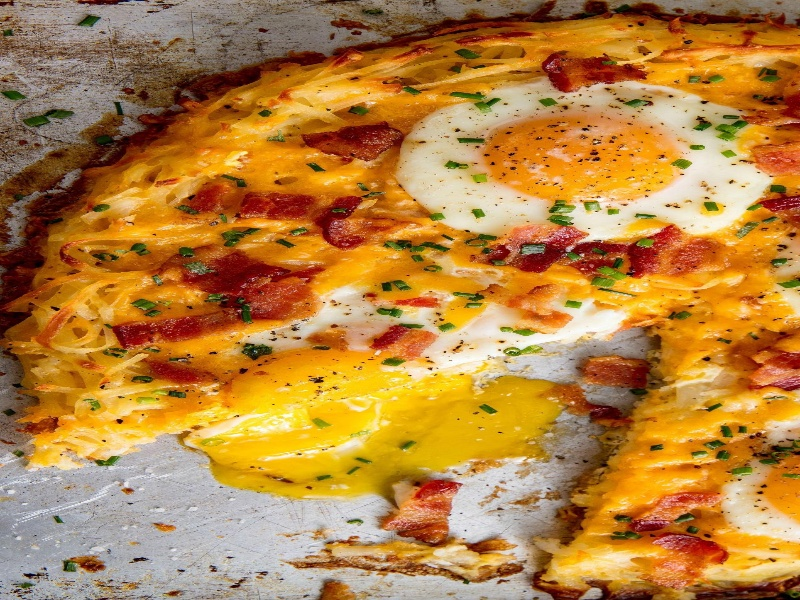oeuf: (454, 103, 707, 234)
